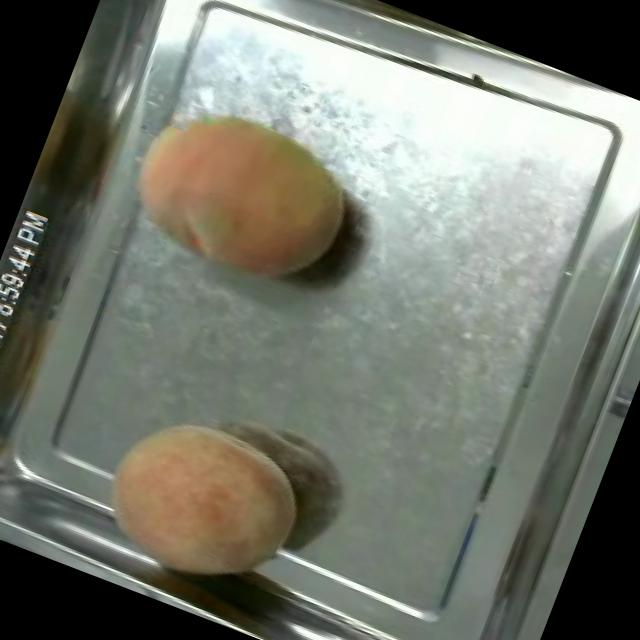Fruit: (99, 74, 377, 314), (75, 384, 328, 617)
